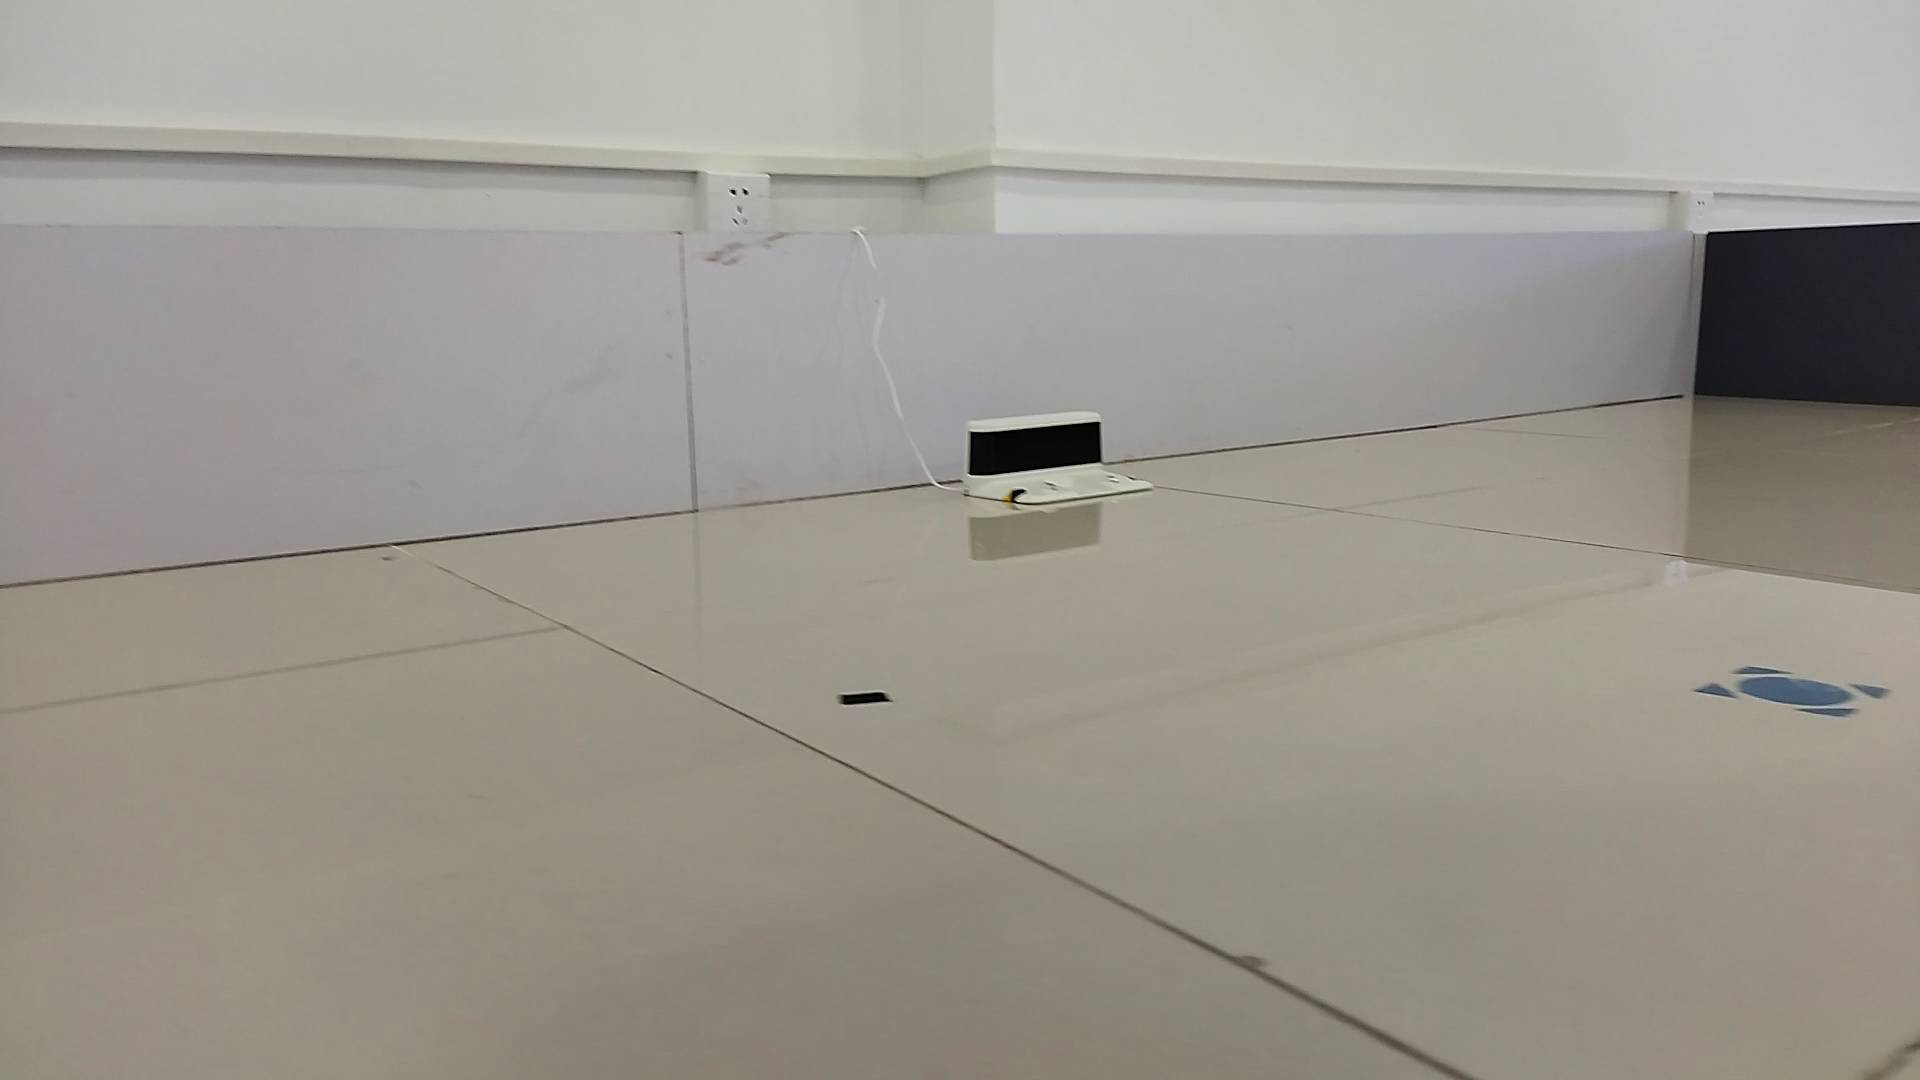recharge seat: (963, 409, 1156, 504)
